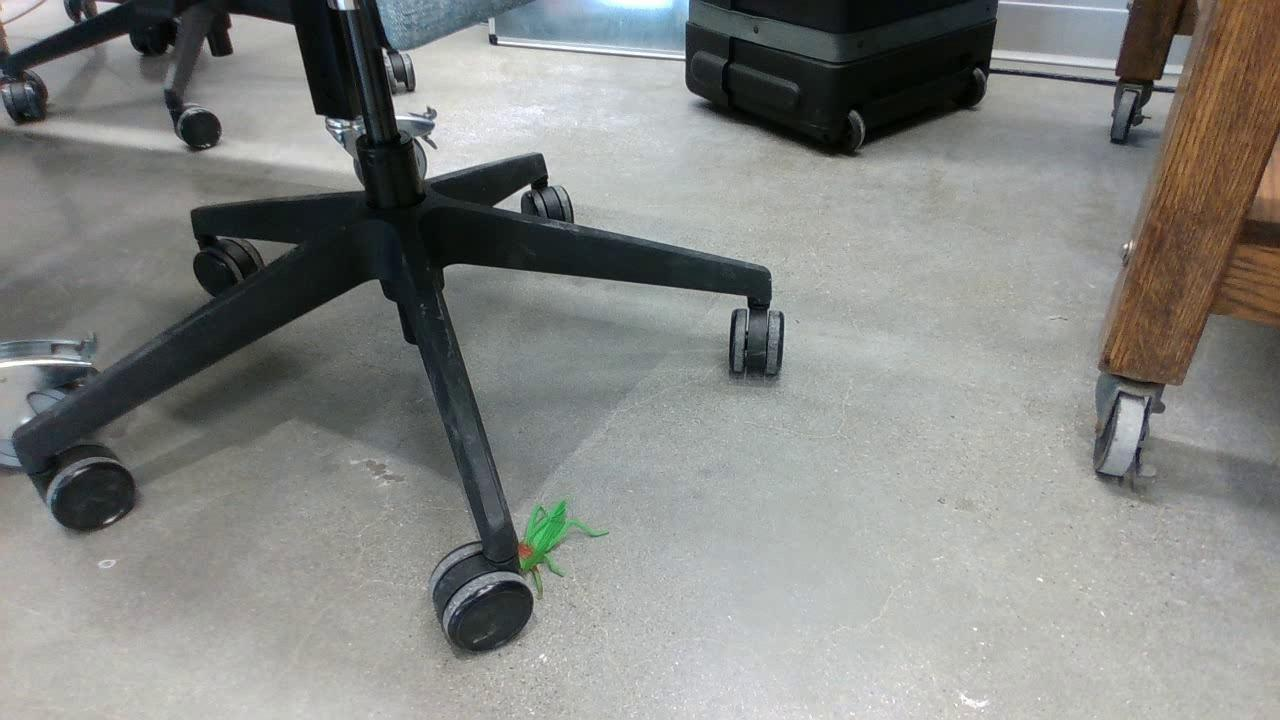grasshopper: (498, 498, 610, 594)
